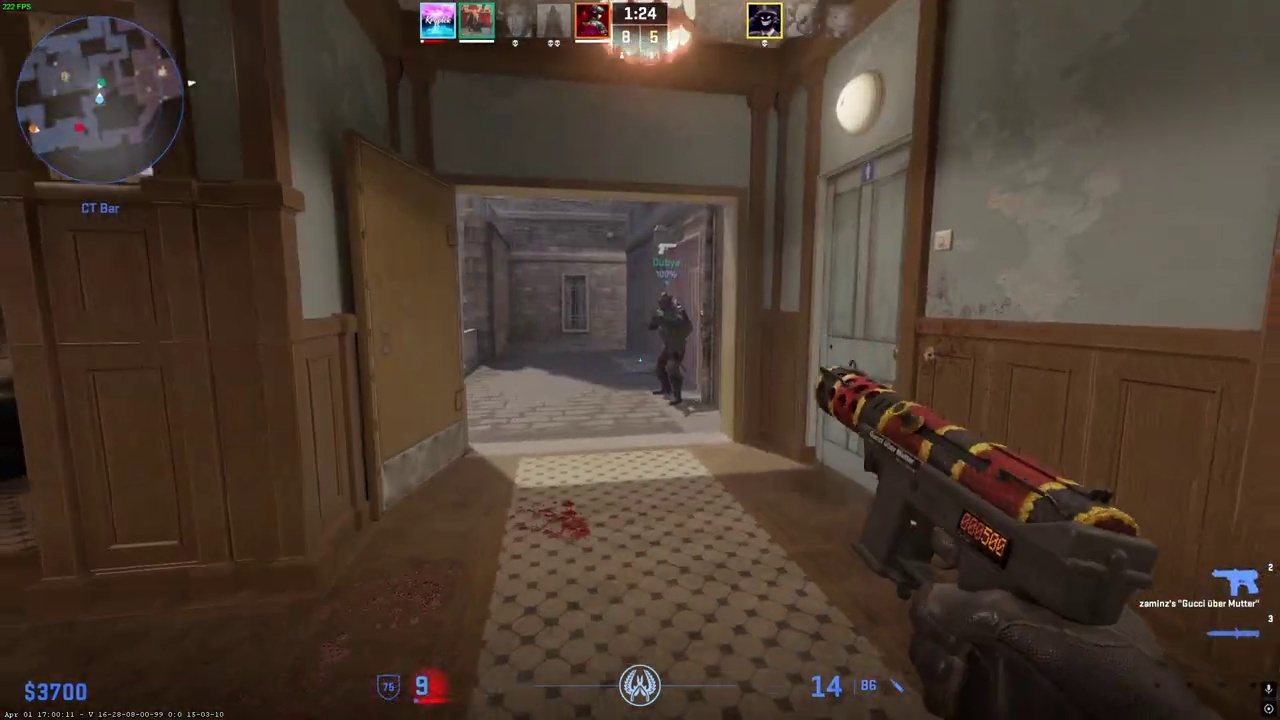CT: (649, 291, 692, 406)
